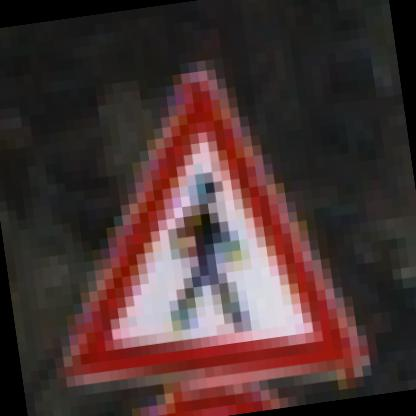crosswalk: (16, 42, 382, 415)
